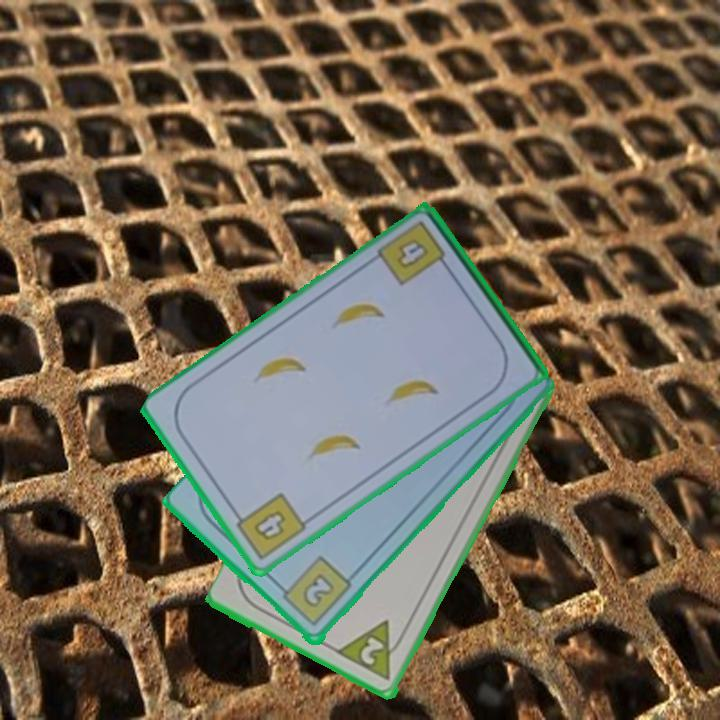2b: (274, 553, 355, 630)
2p: (357, 634, 387, 669)
4b: (229, 489, 309, 563), (373, 217, 453, 289)
